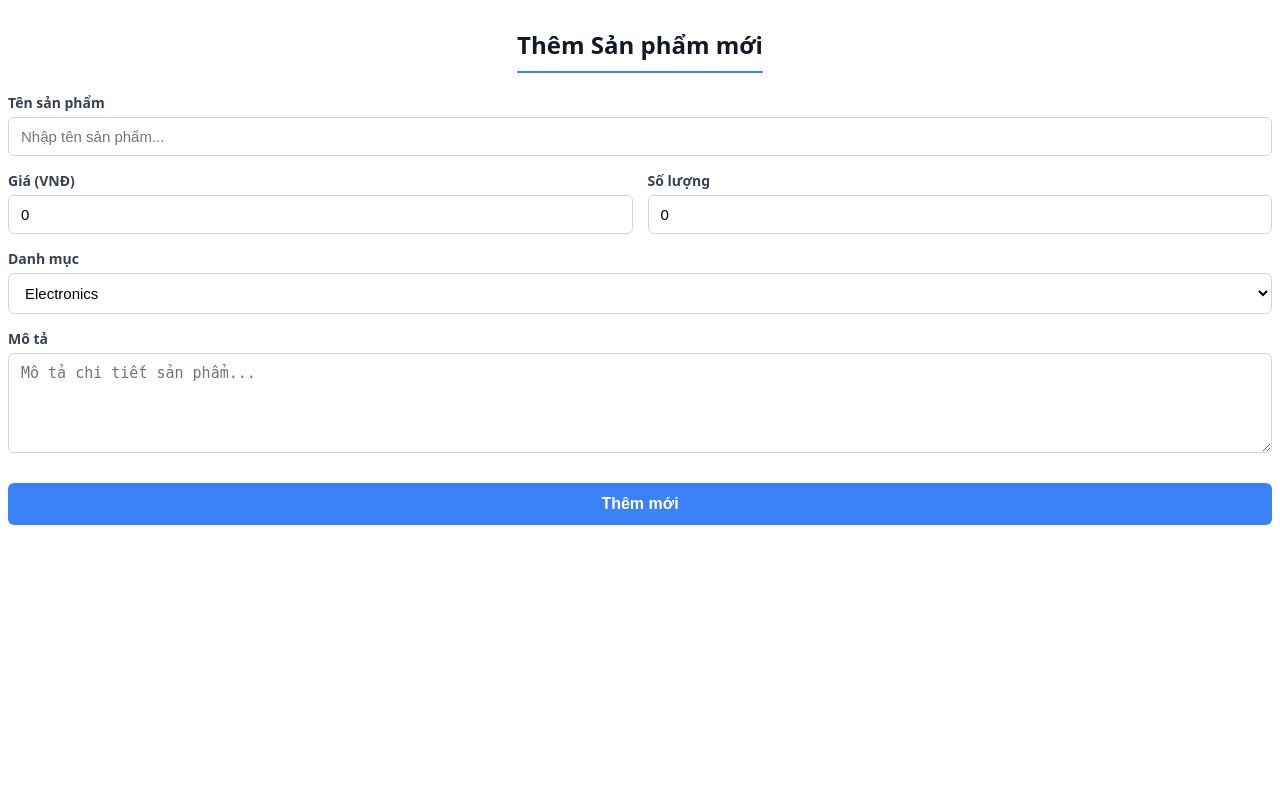
Test: Product Form Integration Tests › Tạo sản phẩm mới thành công và hiển thị thông báo success
Type "Laptop Dell" into the field with test id "product-name-input" at (640, 136), box top-left (8, 117), bottom-right (1272, 156)
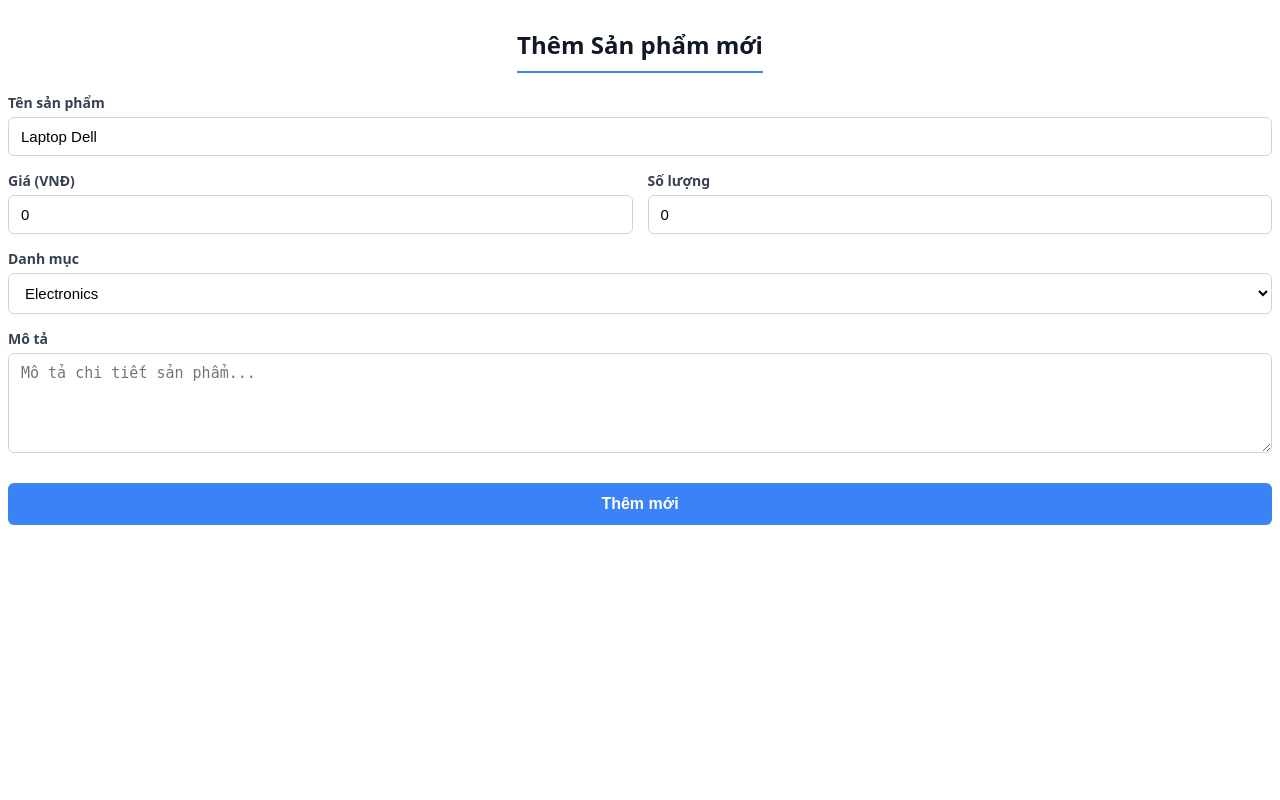
Replace the text in the number field with test id "product-price-input" with "15000000" at (320, 214), box top-left (8, 195), bottom-right (632, 234)
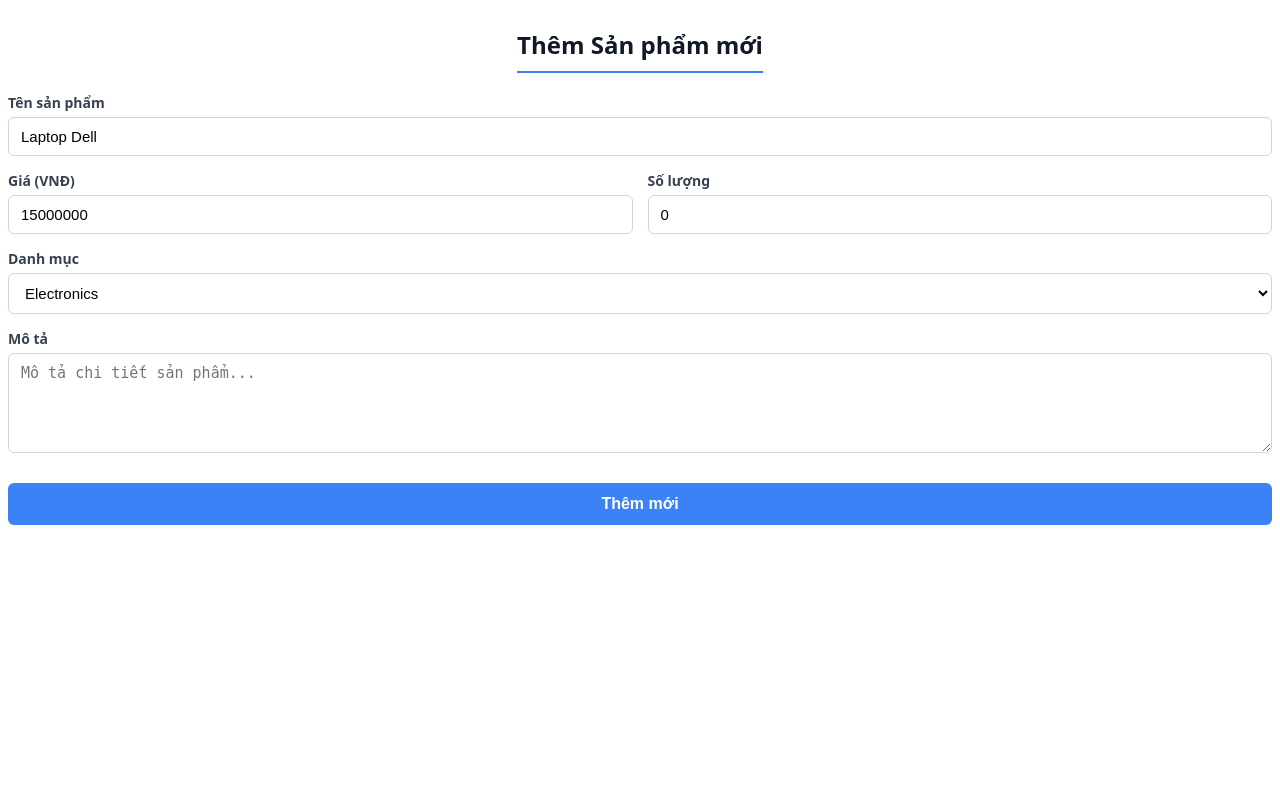
Replace the text in the number field with test id "product-quantity-input" with "10" at (960, 214), box top-left (648, 195), bottom-right (1272, 234)
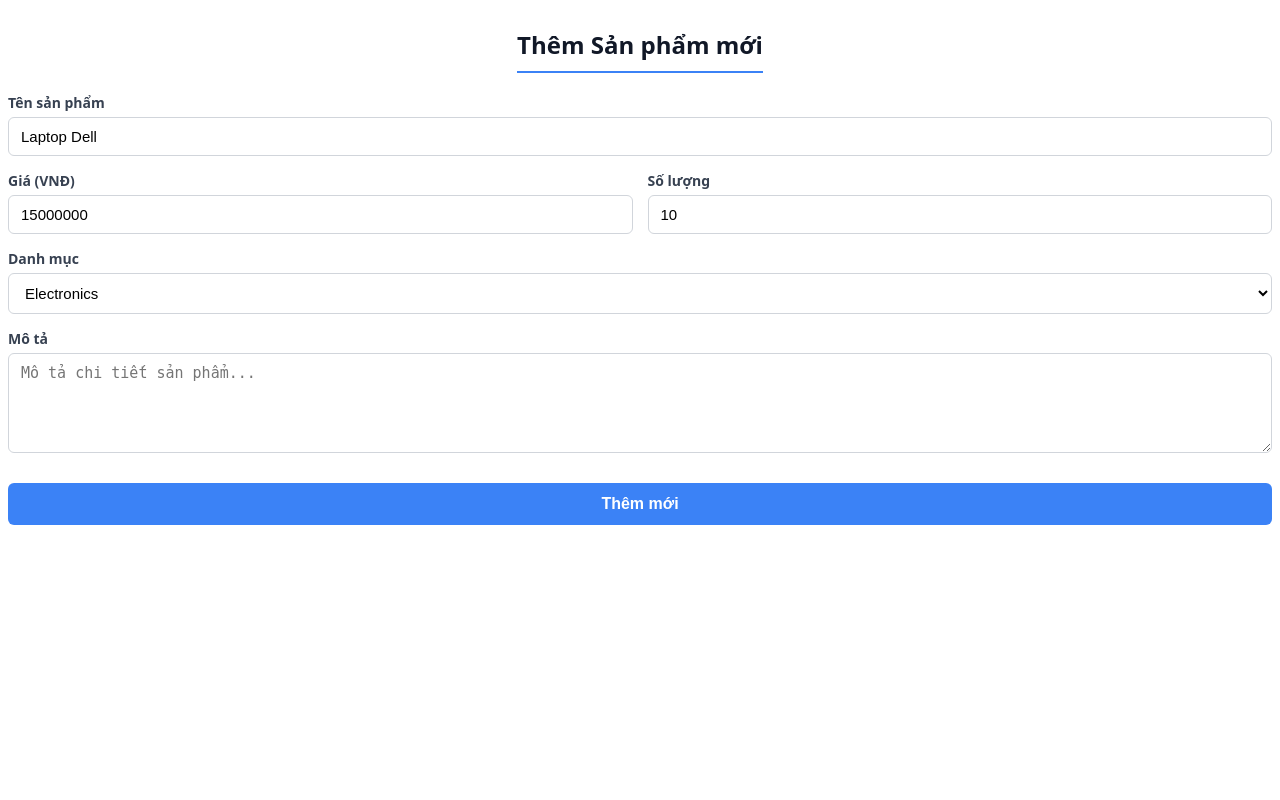
Click the button with test id "submit-btn" at (640, 504), box top-left (8, 483), bottom-right (1272, 525)
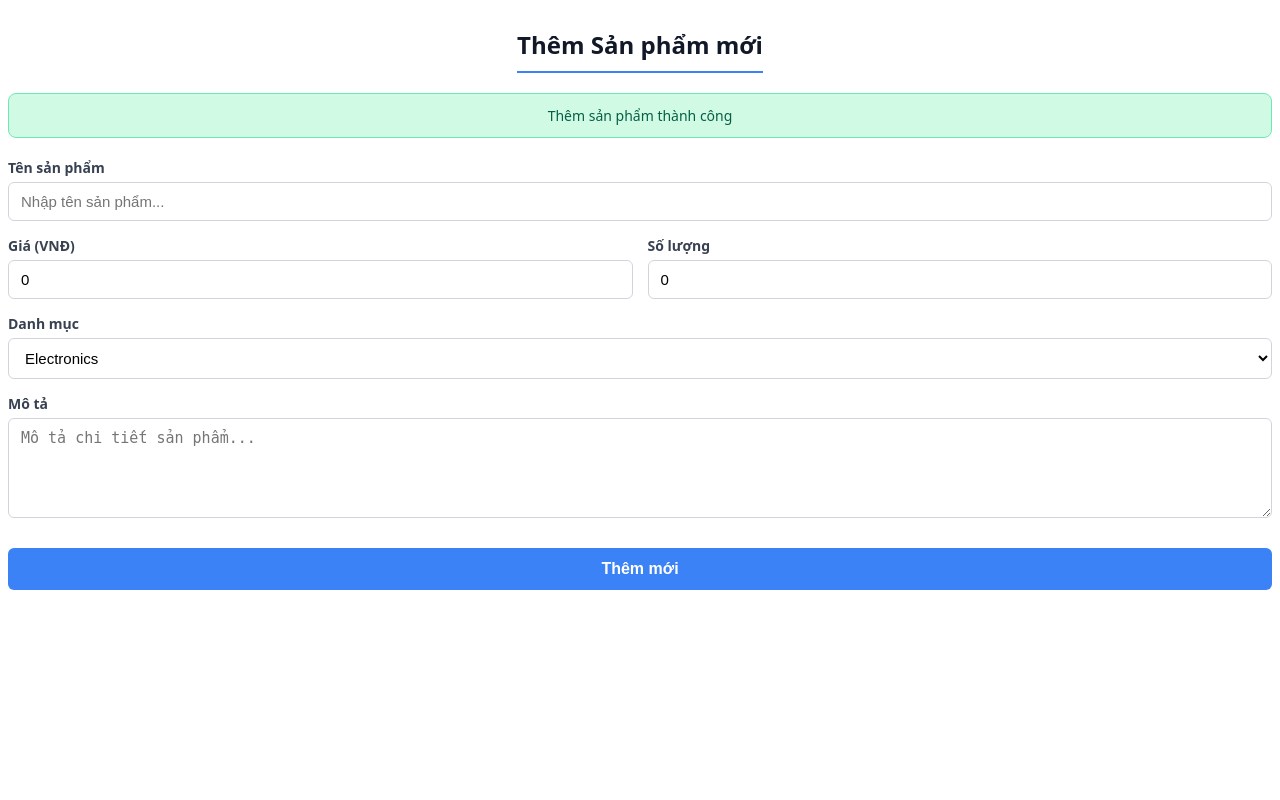
Now the text "Thêm sản phẩm thành công" is shown, box top-left (8, 93), bottom-right (1272, 138)
